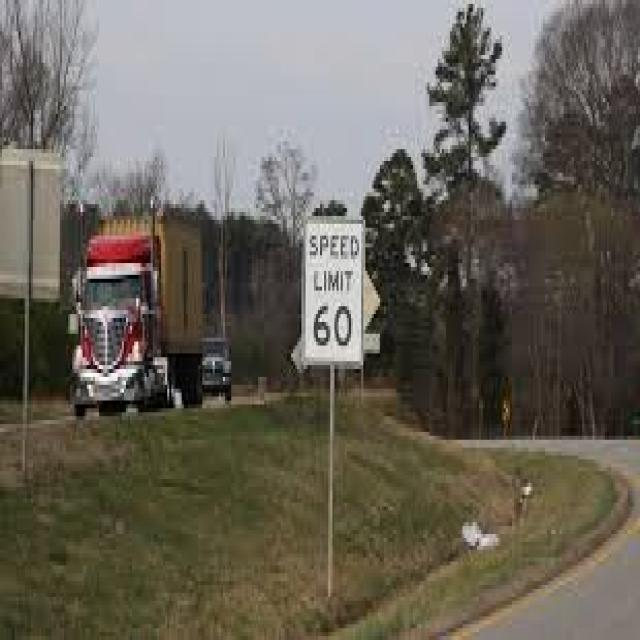speedLimit60: (308, 214, 366, 371)
